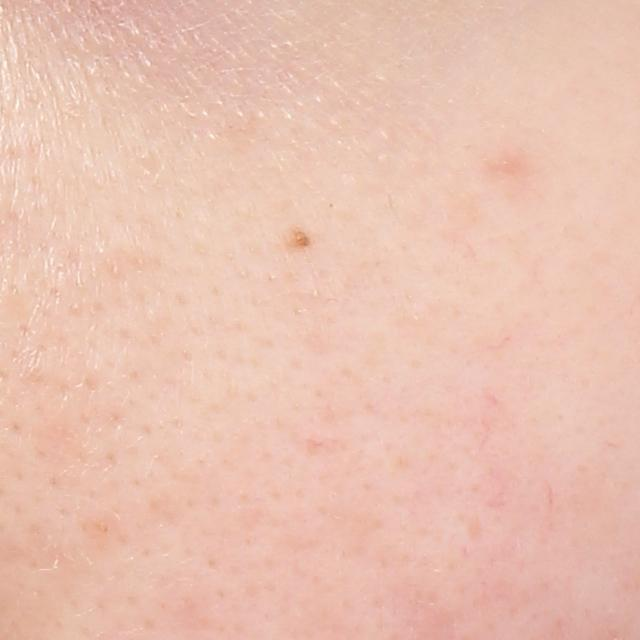nevus: (293, 224, 313, 250)
